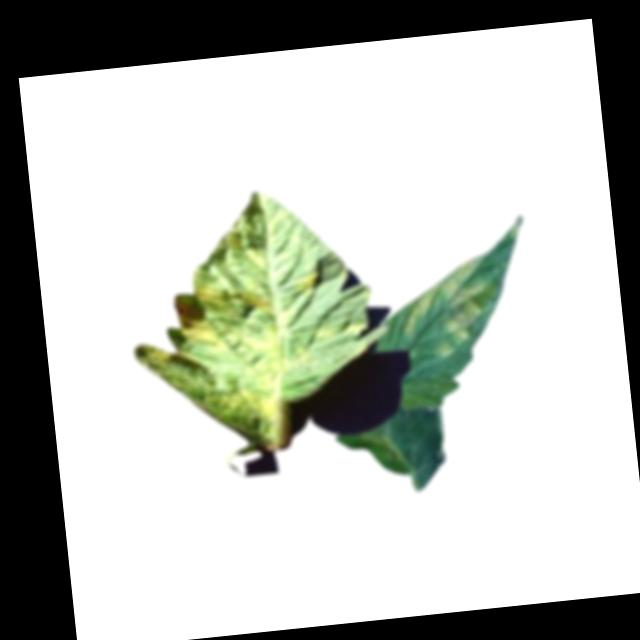Leaf_Mold: (119, 206, 290, 457), (396, 252, 496, 361), (291, 265, 322, 293)
